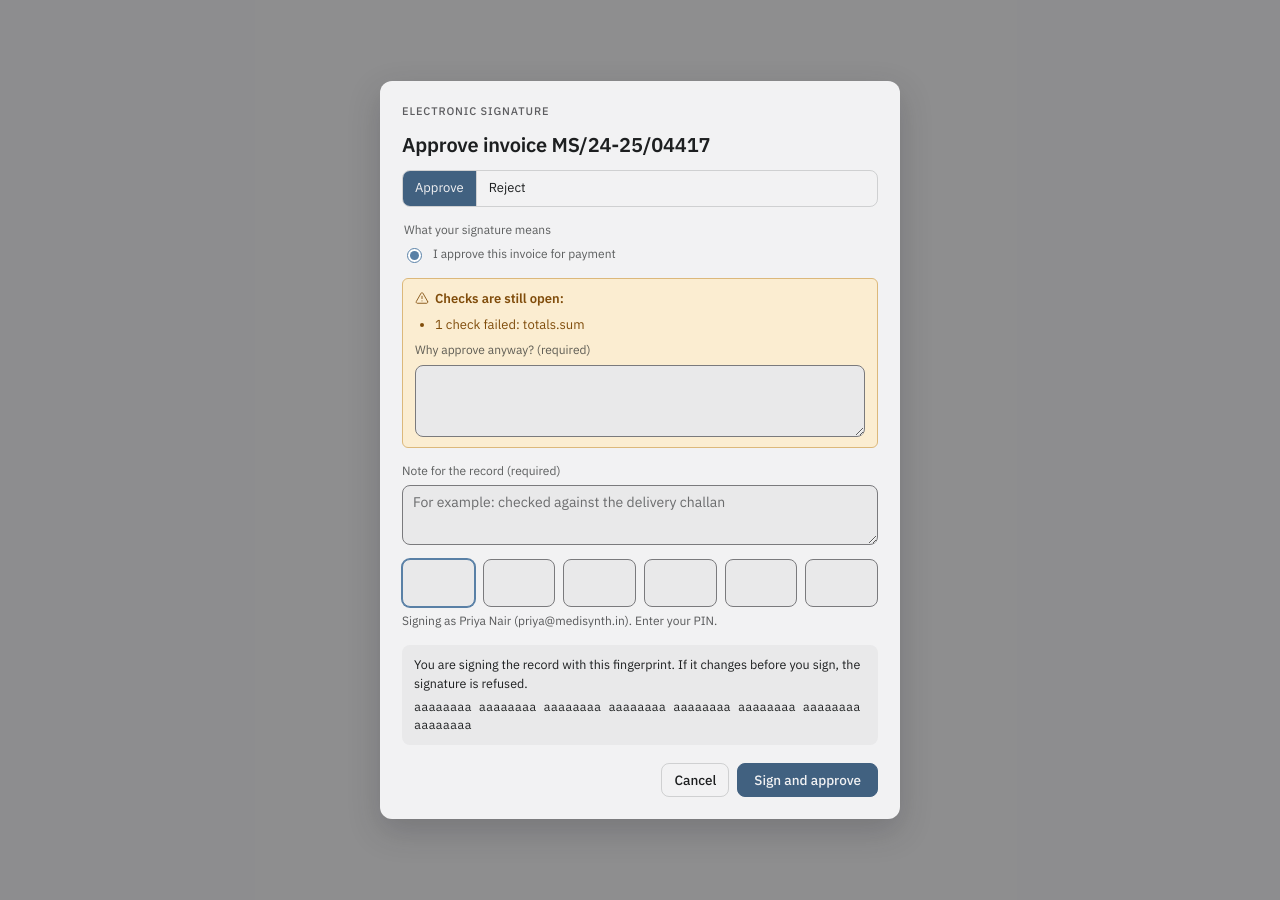
Test: signing › asks why when approving with checks still open, then for the PIN
The image size is (1280, 900).
expect the dialog "Approve invoice MS/24-25/04417" is shown: met, box [380,81,900,819]
Click the button "Sign and approve" at (808, 780), box [737,763,878,797]
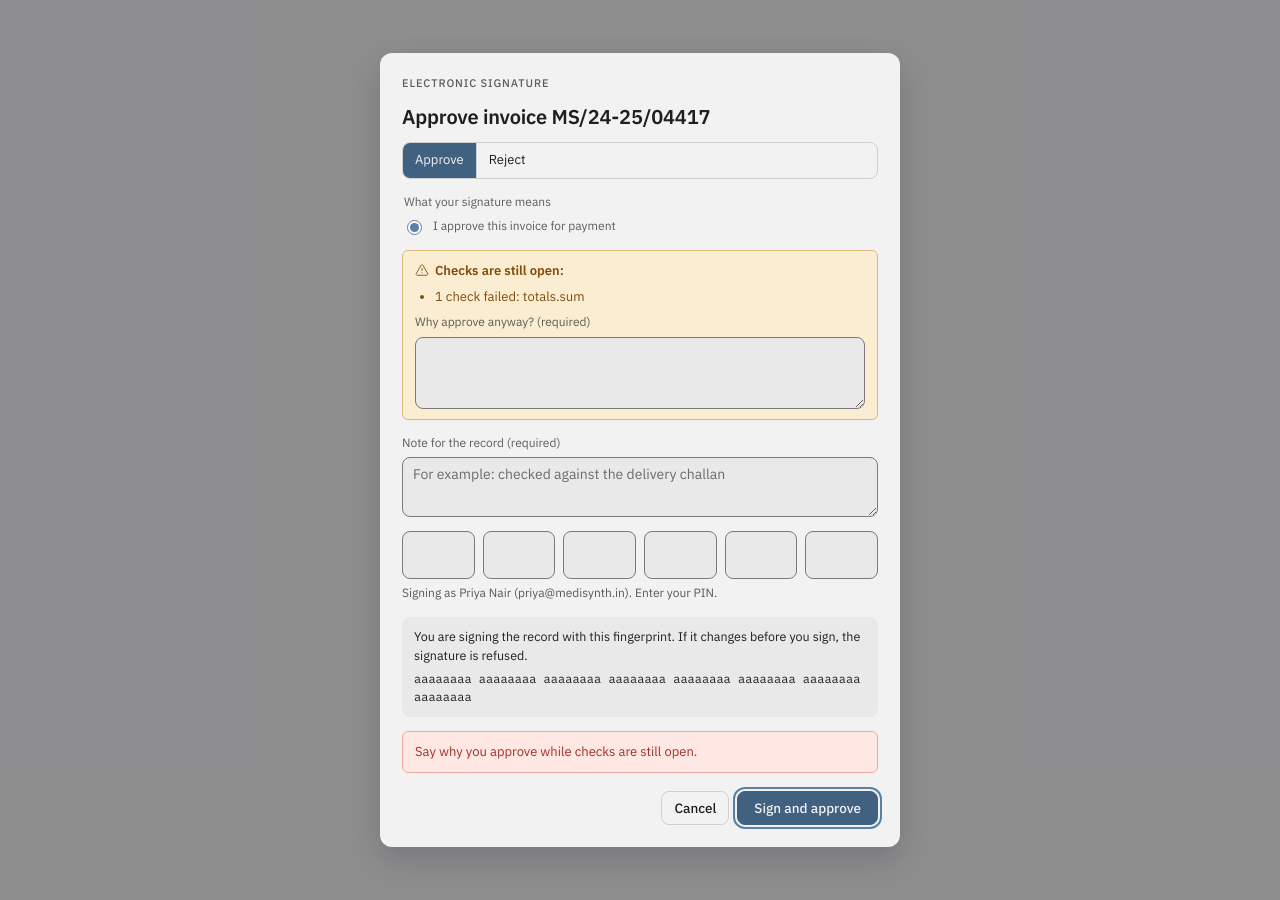
expect the message reads "Say why you approve while checks are still open.": met, box [415,743,697,760]
Type "Supplier confirmed by phone" into the text box labelled "Why approve anyway? (required)" at (640, 373), box [415,337,865,409]
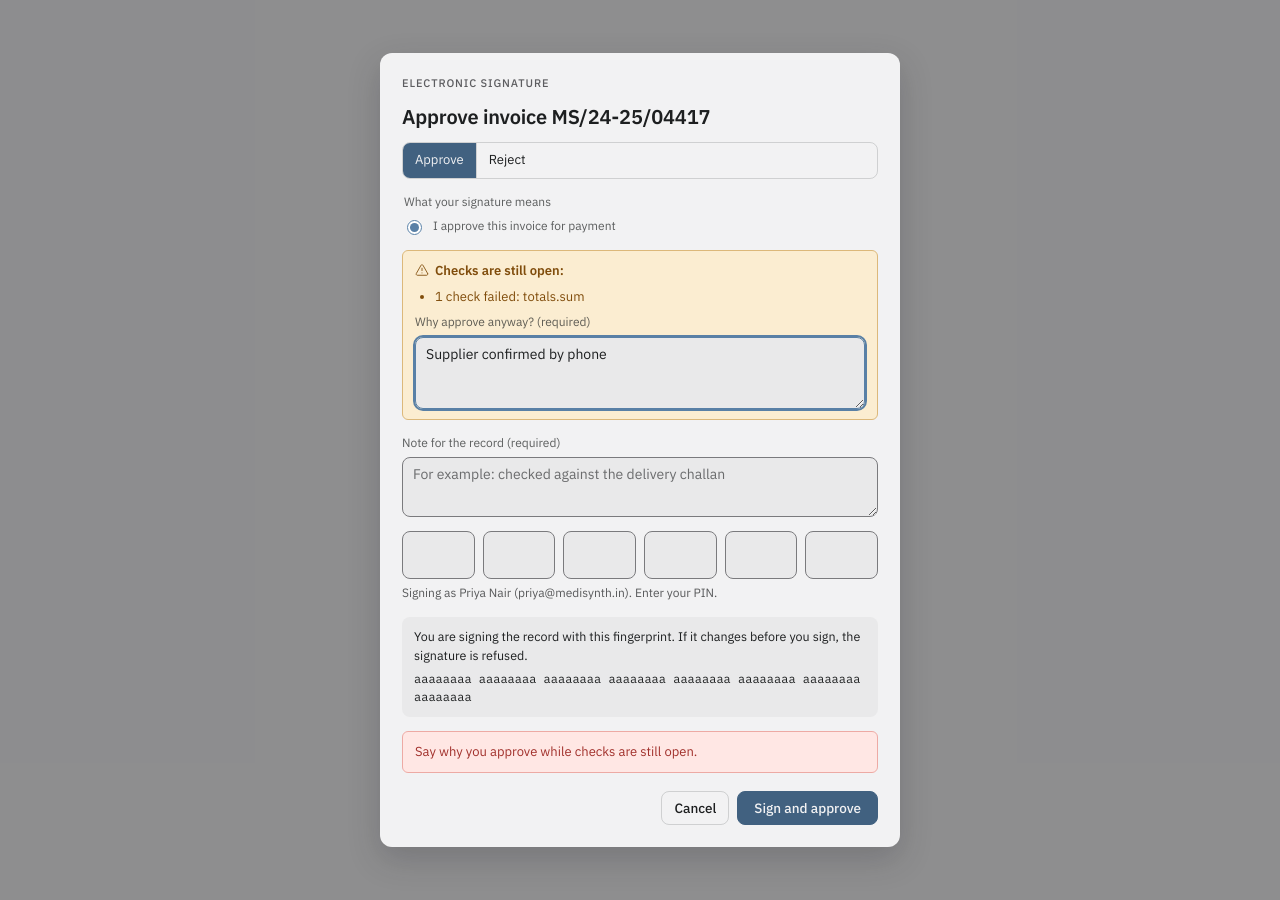
Type "Checked" into the text box labelled "Note for the record (required)" at (640, 487), box [402,457,878,517]
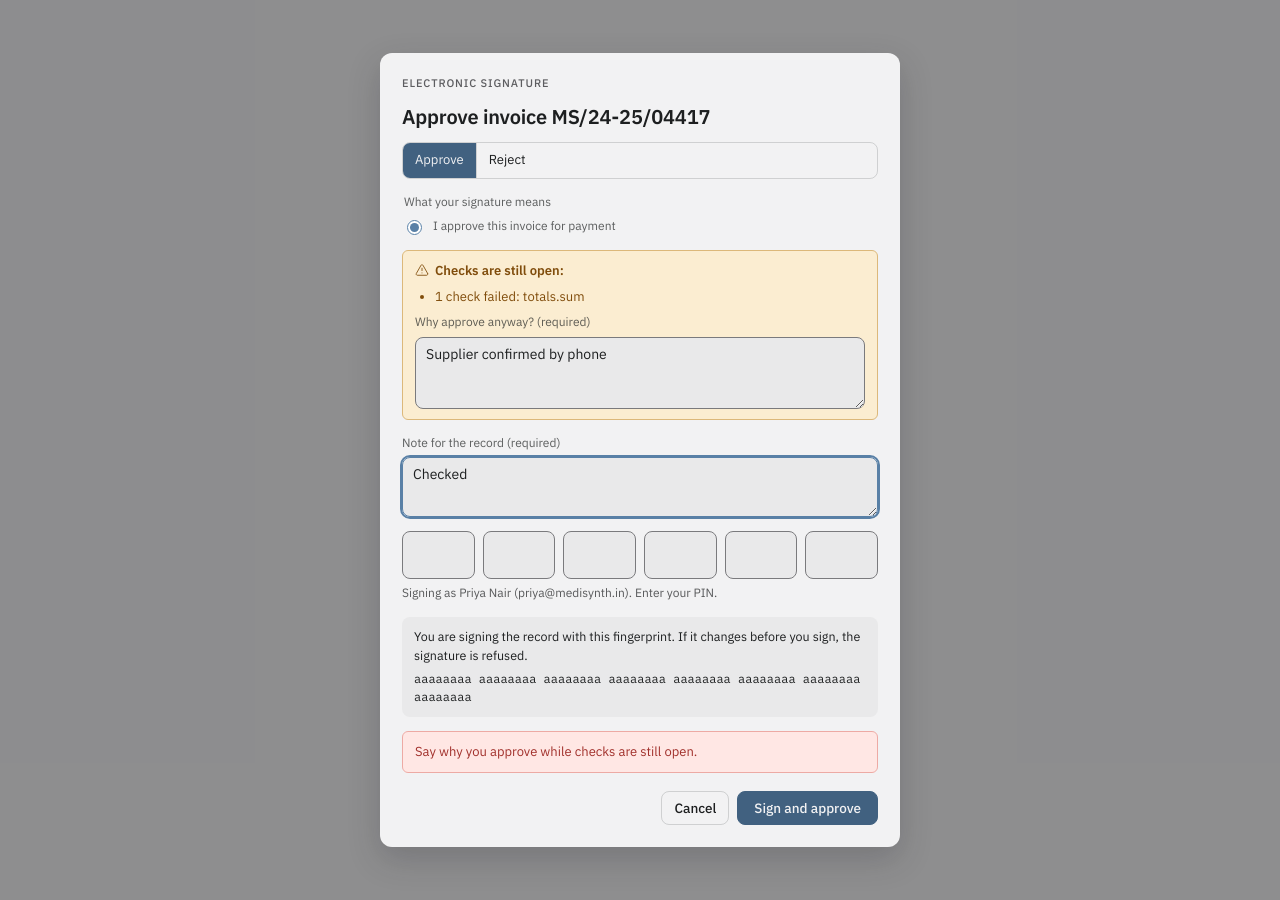
Click the button "Sign and approve" at (808, 808), box [737,791,878,825]
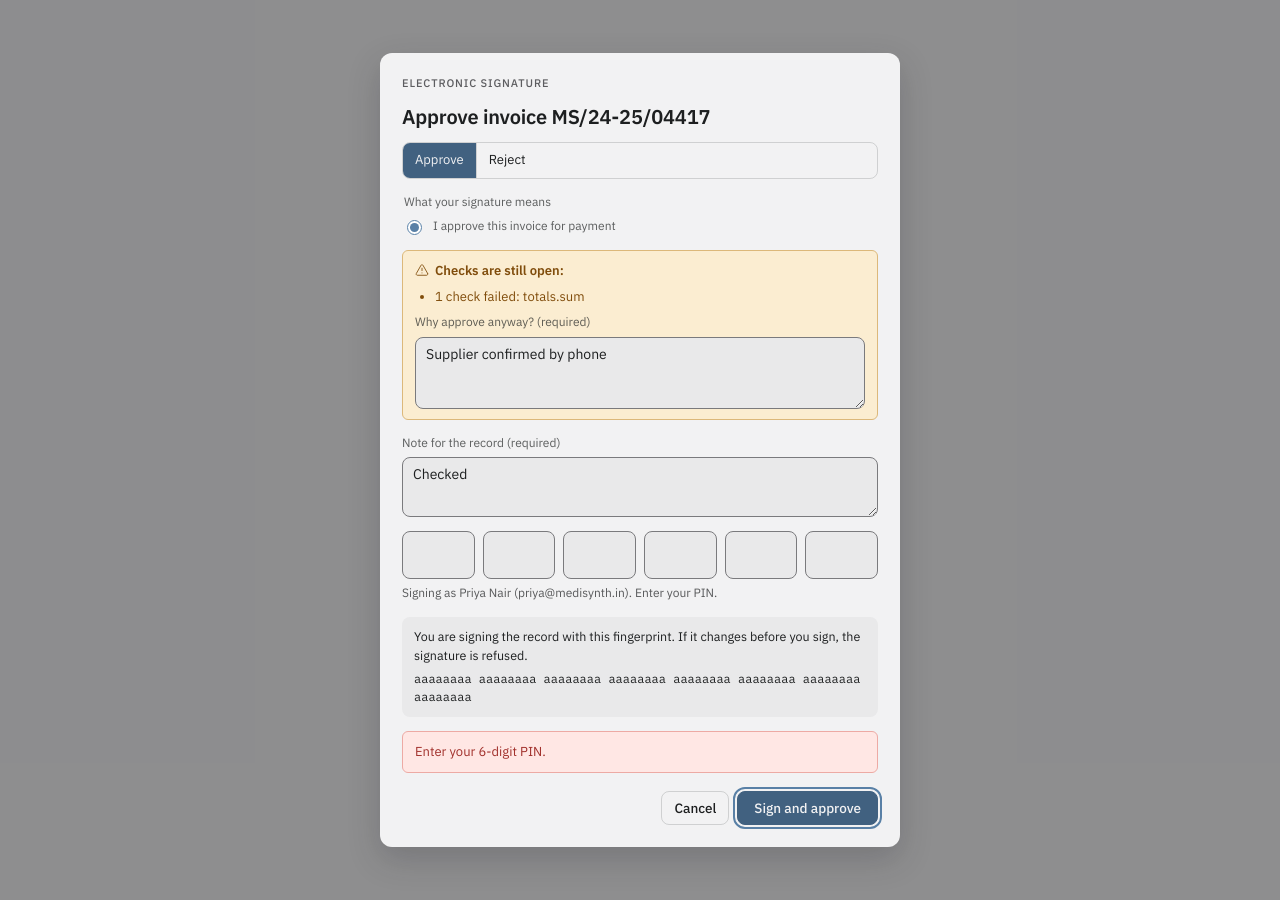
expect the message reads "Enter your 6-digit PIN.": met, box [415,743,546,760]
